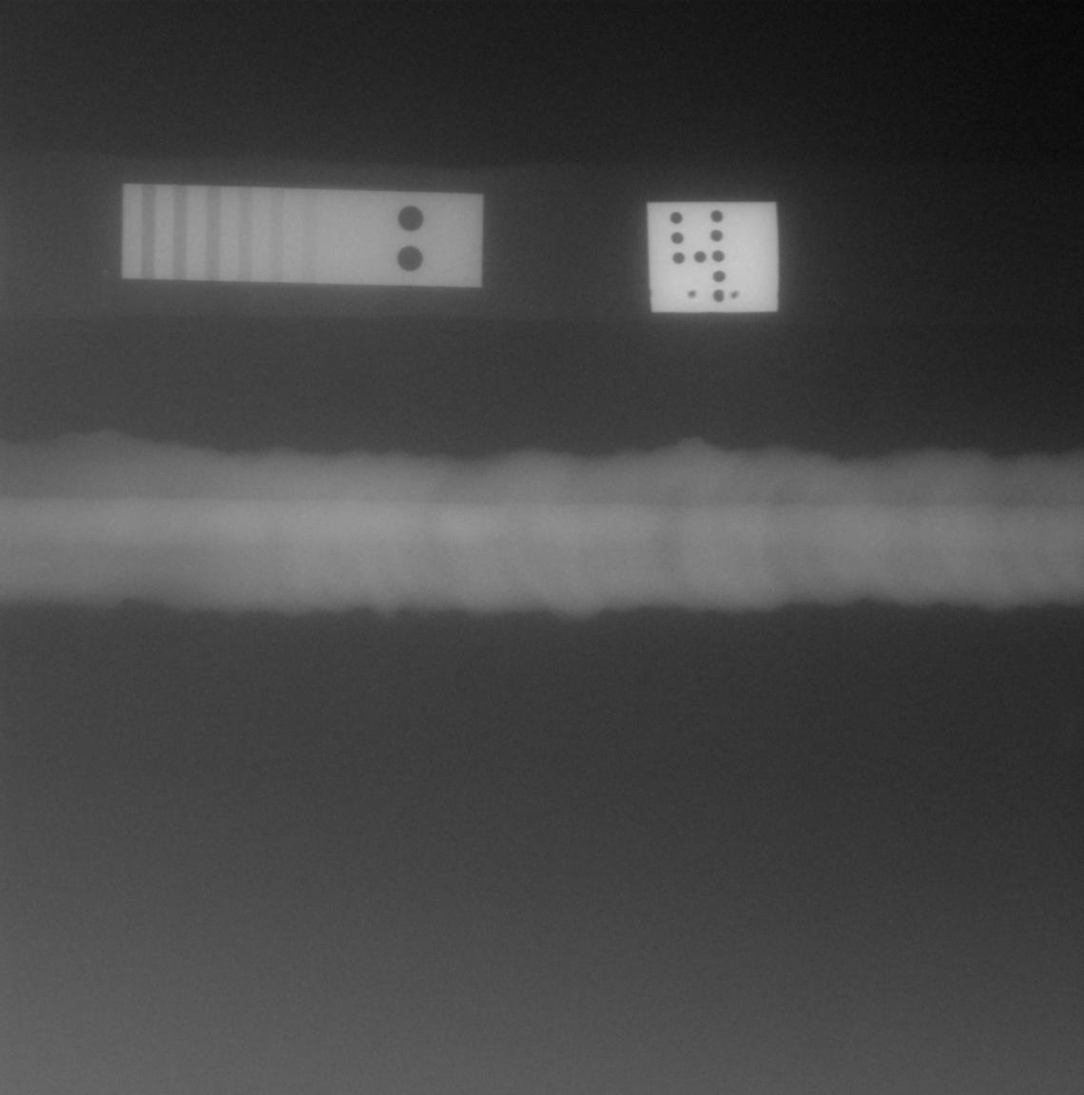Pore/Porosity: (622, 560, 626, 564)
Reference Standard 2: (120, 183, 484, 289)
